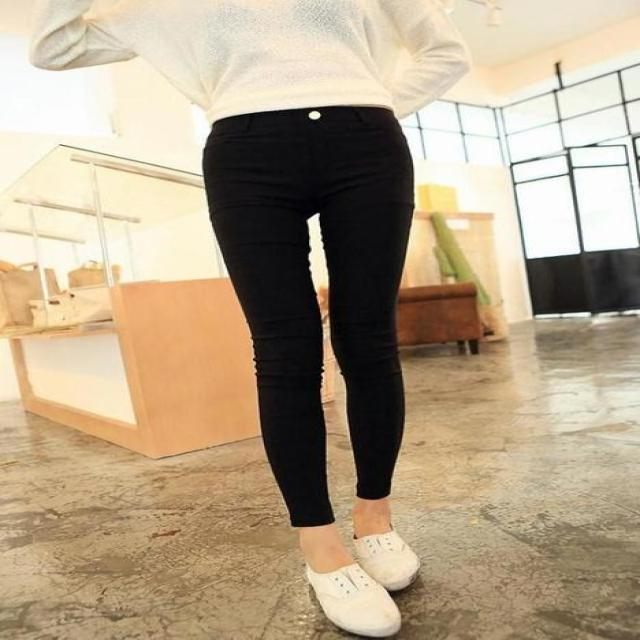long sleeve top: (81, 2, 469, 125)
trousers: (213, 108, 412, 526)
